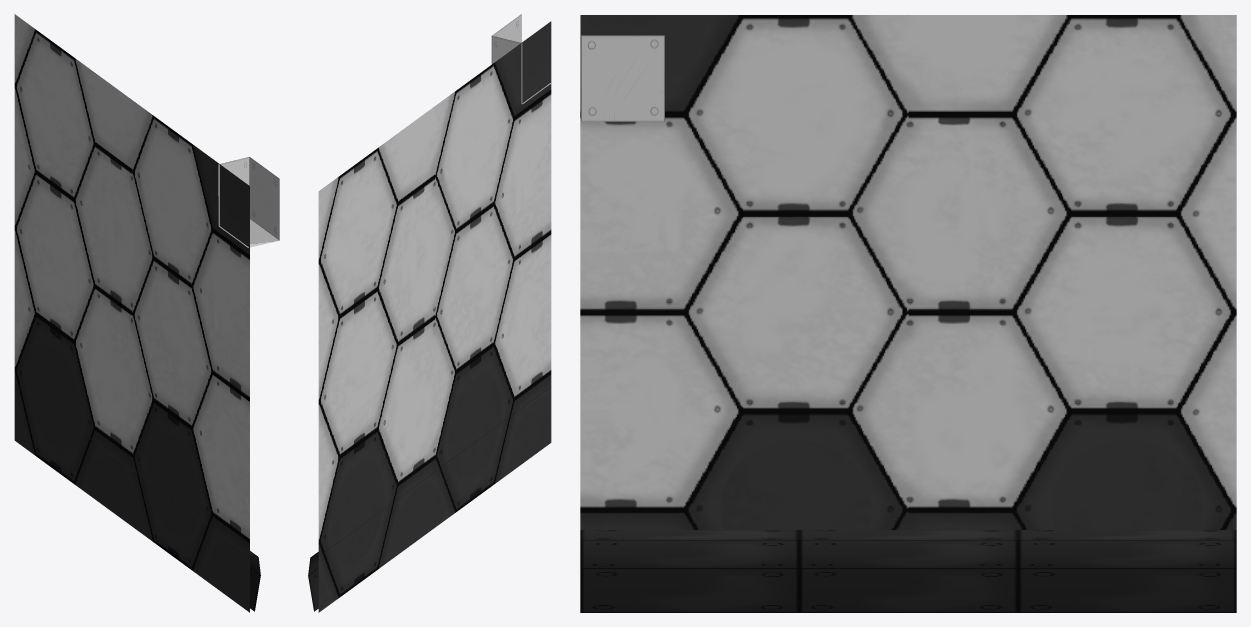
File: Wall_BottomLCorner.fbx
3 renders of one model, left to right at view 1: azimuth 30°, elevation 25°; view 2: azimuth 150°, elevation 25°; view 3: azimuth 270°, elevation 25°, orthographic. The views are drawn at different scales.
Parts seen in each view (by area): view 1: Wall_BottomLCorner; view 2: Wall_BottomLCorner; view 3: Wall_BottomLCorner.
Part boxes in pixels (bbox=[...]): Wall_BottomLCorner: bbox=[14, 14, 279, 612]; Wall_BottomLCorner: bbox=[308, 14, 551, 612]; Wall_BottomLCorner: bbox=[580, 15, 1236, 612].
Bounding box in the file's own units: 0.1534 × 2 × 2.
